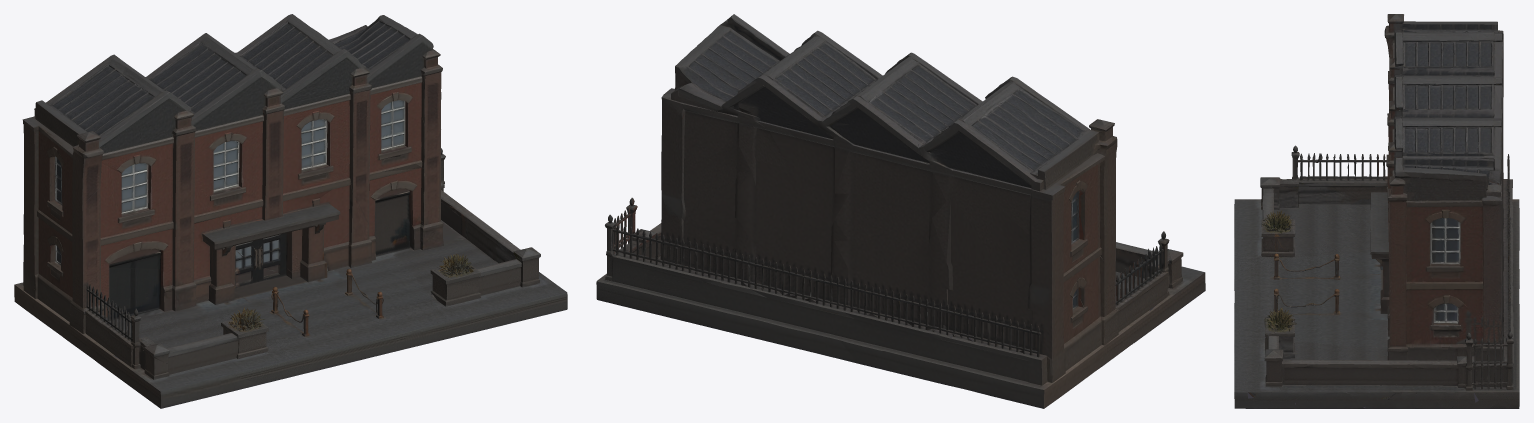
File: building_nightclub.glb
3 renders of one model, left to right at view 1: azimuth 30°, elevation 25°; view 2: azimuth 150°, elevation 25°; view 3: azimuth 270°, elevation 25°, orthographic. The views are drawn at different scales.
Parts seen in each view (by area): view 1: output_unwrapped; view 2: output_unwrapped; view 3: output_unwrapped.
Part boxes in pixels (bbox=[...]): output_unwrapped: bbox=[14, 14, 567, 408]; output_unwrapped: bbox=[596, 14, 1205, 408]; output_unwrapped: bbox=[1234, 14, 1519, 408].
Bounding box in the file's own units: 2 × 1.1 × 1.25.
Materials: 1 (1 with a texture image).
